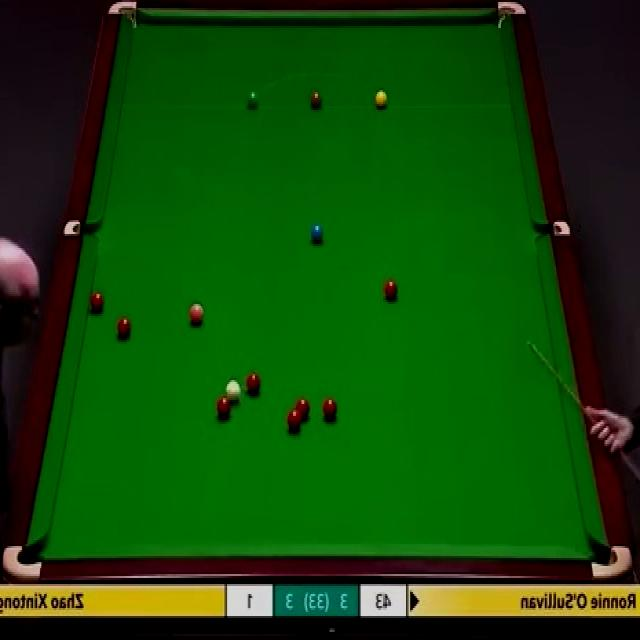pocket: (4, 543, 45, 580), (590, 543, 632, 577), (106, 0, 140, 32), (497, 0, 527, 28), (538, 218, 574, 238), (65, 218, 99, 237)
